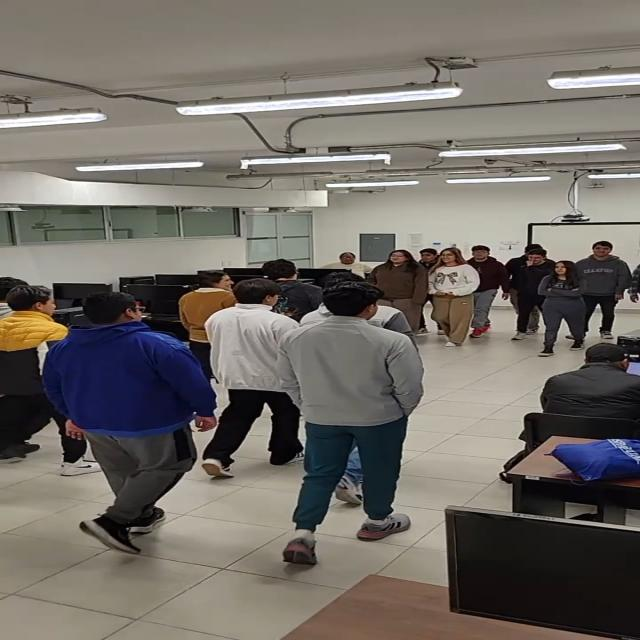Persona: (49, 293, 195, 557), (286, 277, 414, 576), (203, 278, 299, 477), (0, 275, 64, 477), (184, 266, 238, 370), (368, 245, 423, 340), (424, 246, 474, 348), (578, 239, 628, 340), (539, 258, 585, 362), (469, 243, 508, 345), (512, 247, 549, 337)
